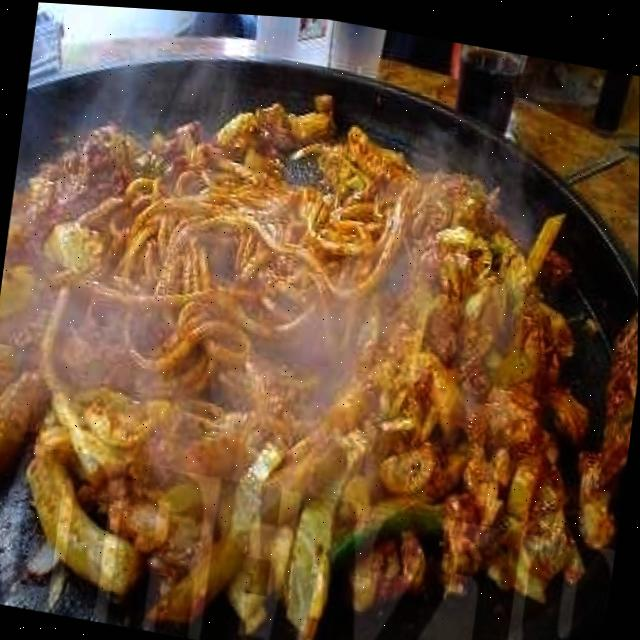牛肉菜式: (0, 7, 626, 634)
